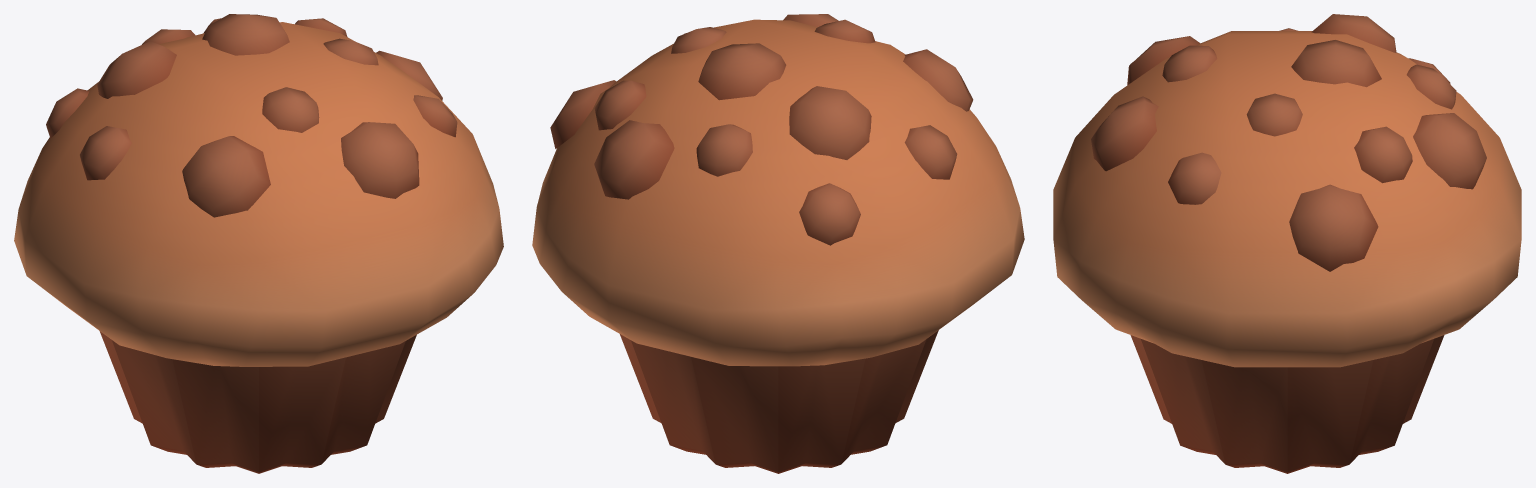
Rendered from Muffin.glb.
The picture shows the model from 3 angles, left to right: view 1: azimuth 30°, elevation 25°; view 2: azimuth 150°, elevation 25°; view 3: azimuth 270°, elevation 25°; orthographic projection.
Visible parts, largest first — view 1: muffin; view 2: muffin; view 3: muffin.
Part boxes in pixels (<box>): muffin: <box>14,14,503,473</box>; muffin: <box>532,14,1024,473</box>; muffin: <box>1053,14,1521,473</box>.
Bounding box in the file's own units: 0.3811 × 0.3501 × 0.3809.
1 material, 1 textured.
